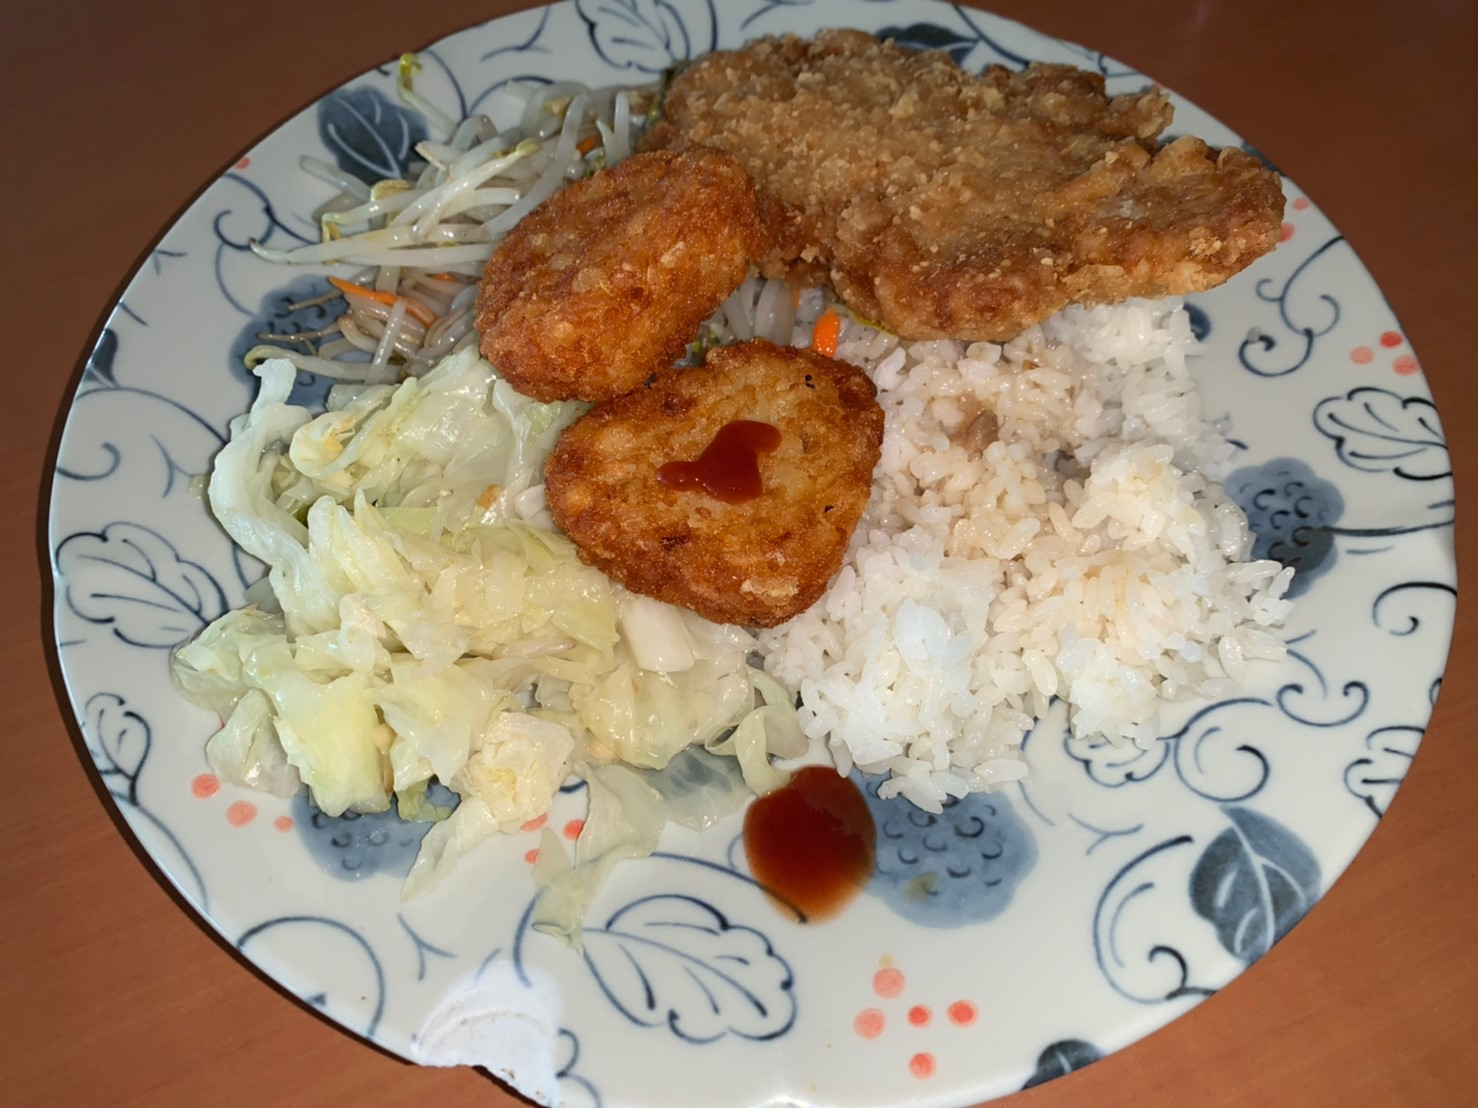chinese_cabbage: (209, 407, 661, 888)
fried_chicken: (696, 40, 1236, 285)
mung_bean_sprouts: (317, 84, 560, 291)
rice: (884, 351, 1205, 708)
triangle_hash_brown: (495, 152, 867, 602)
